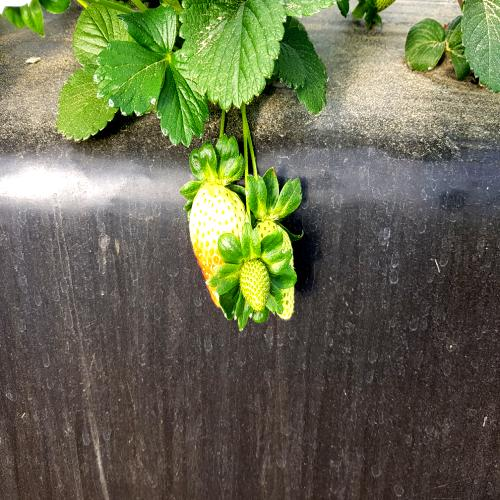partially-ripe: (180, 182, 254, 326)
